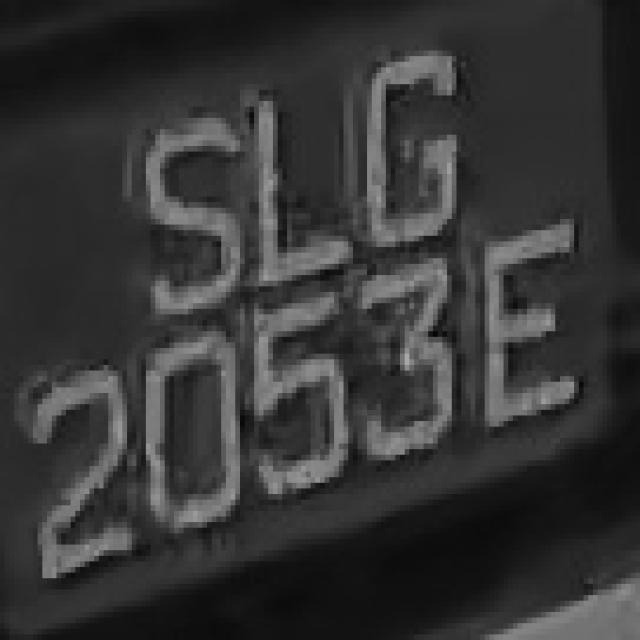0: (132, 320, 245, 545)
2: (14, 365, 141, 584)
3: (348, 258, 466, 477)
5: (235, 303, 353, 511)
E: (461, 213, 593, 438)
G: (339, 39, 475, 253)
L: (231, 73, 348, 269)
S: (127, 101, 249, 309)
